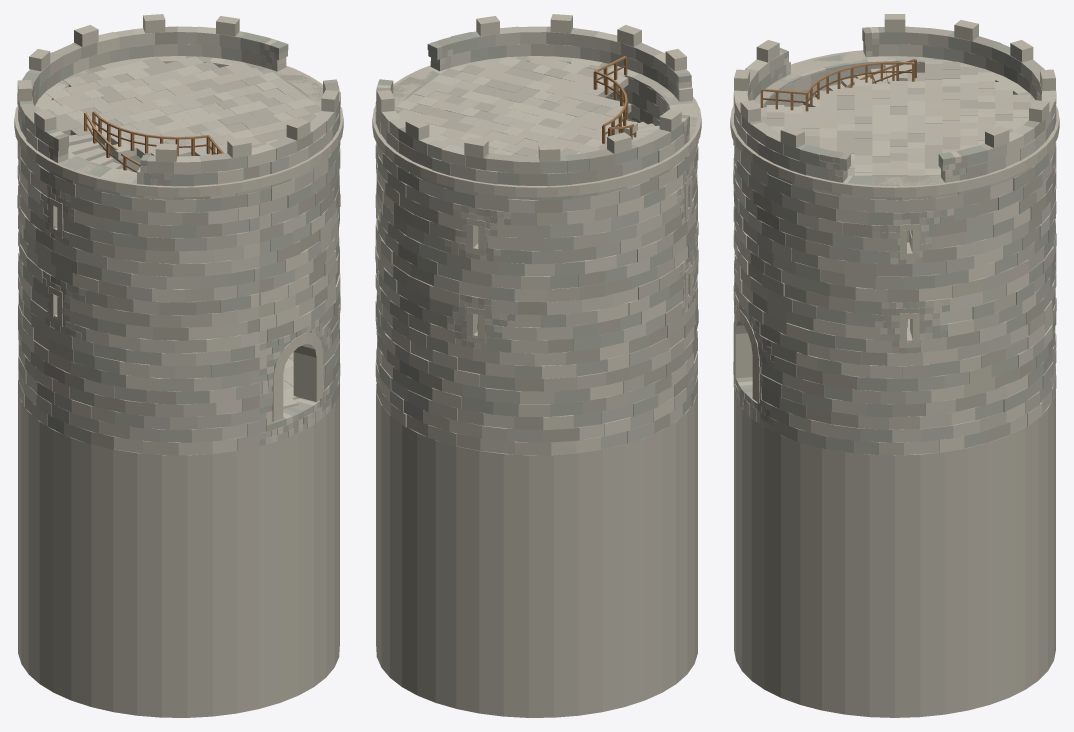
Rendered from Tower_V4_2.glb.
3 views of the same model, side by side, from view 1: azimuth 30°, elevation 25°; view 2: azimuth 150°, elevation 25°; view 3: azimuth 270°, elevation 25° (orthographic).
Visible parts, largest first — view 1: Tower_V4_2; view 2: Tower_V4_2; view 3: Tower_V4_2.
Boxes of the visible parts, x1,y1,x2,y2 form: Tower_V4_2: (14,14,343,717); Tower_V4_2: (372,14,701,717); Tower_V4_2: (730,14,1059,717).
Size of the model in its own units: 16.84 by 32.07 by 16.84.
